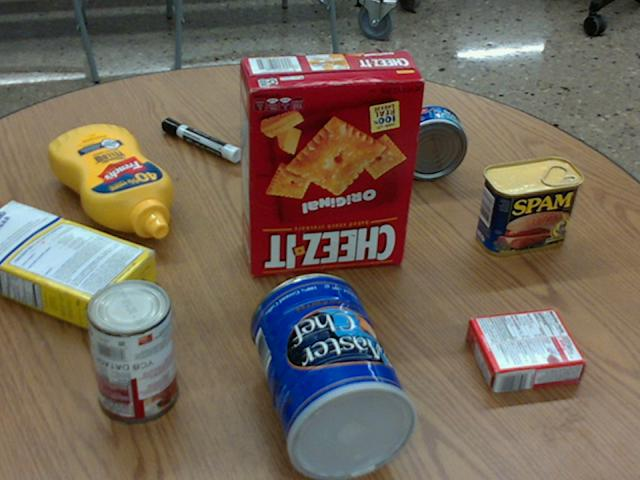cracker_box: (237, 49, 425, 276)
gelatin_box: (465, 307, 585, 391)
large_marker: (161, 118, 241, 161)
master_chef_can: (249, 272, 418, 479)
mug: (245, 58, 337, 147)
mustard_bottle: (48, 123, 172, 237)
potted_meat_can: (476, 156, 583, 256)
sugar_box: (0, 196, 156, 334)
tomato_soup_can: (86, 277, 179, 421)
tuna_fish_can: (391, 105, 466, 179)
